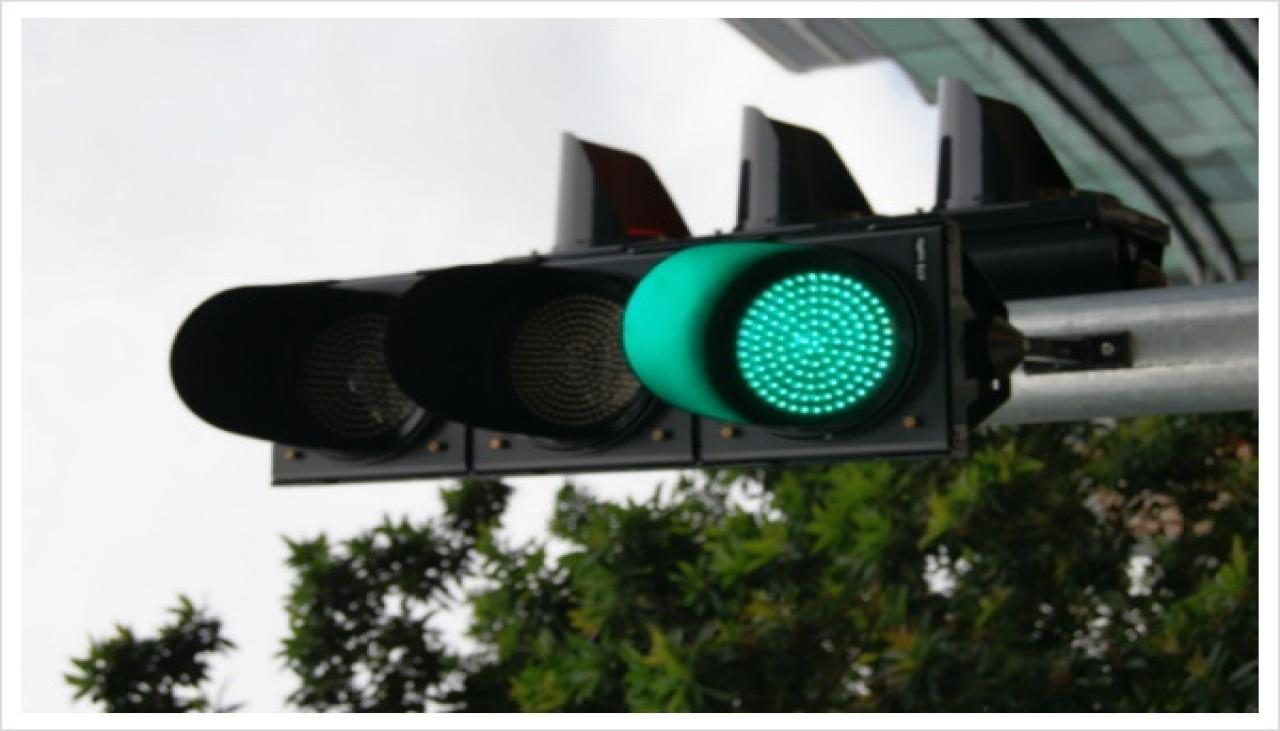Green Light: (691, 239, 903, 444)
